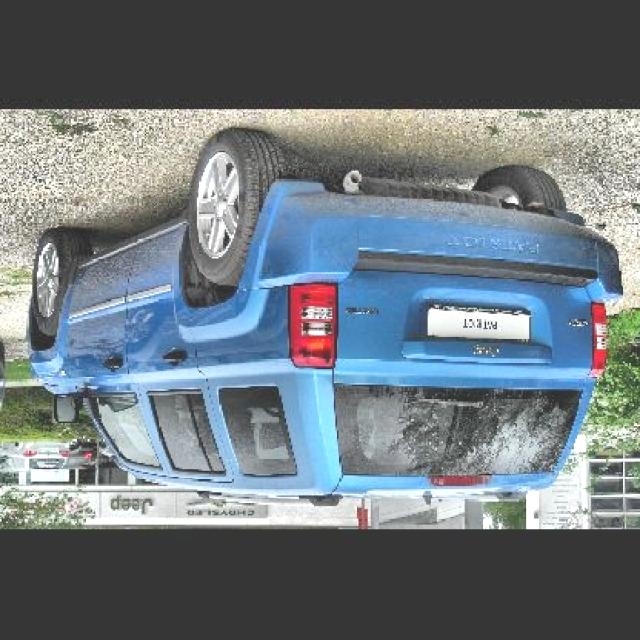blue: (31, 183, 624, 496)
